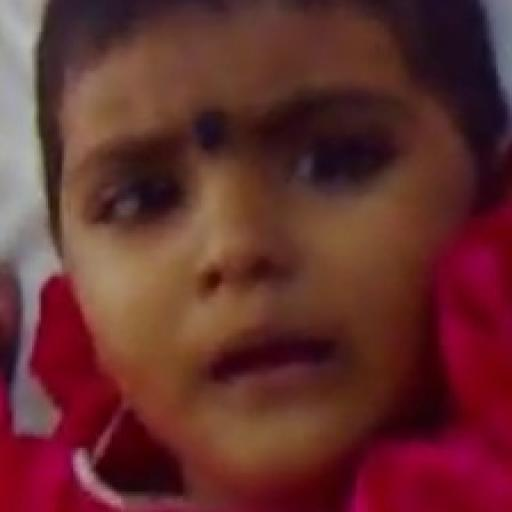Autism: (34, 20, 512, 478)
